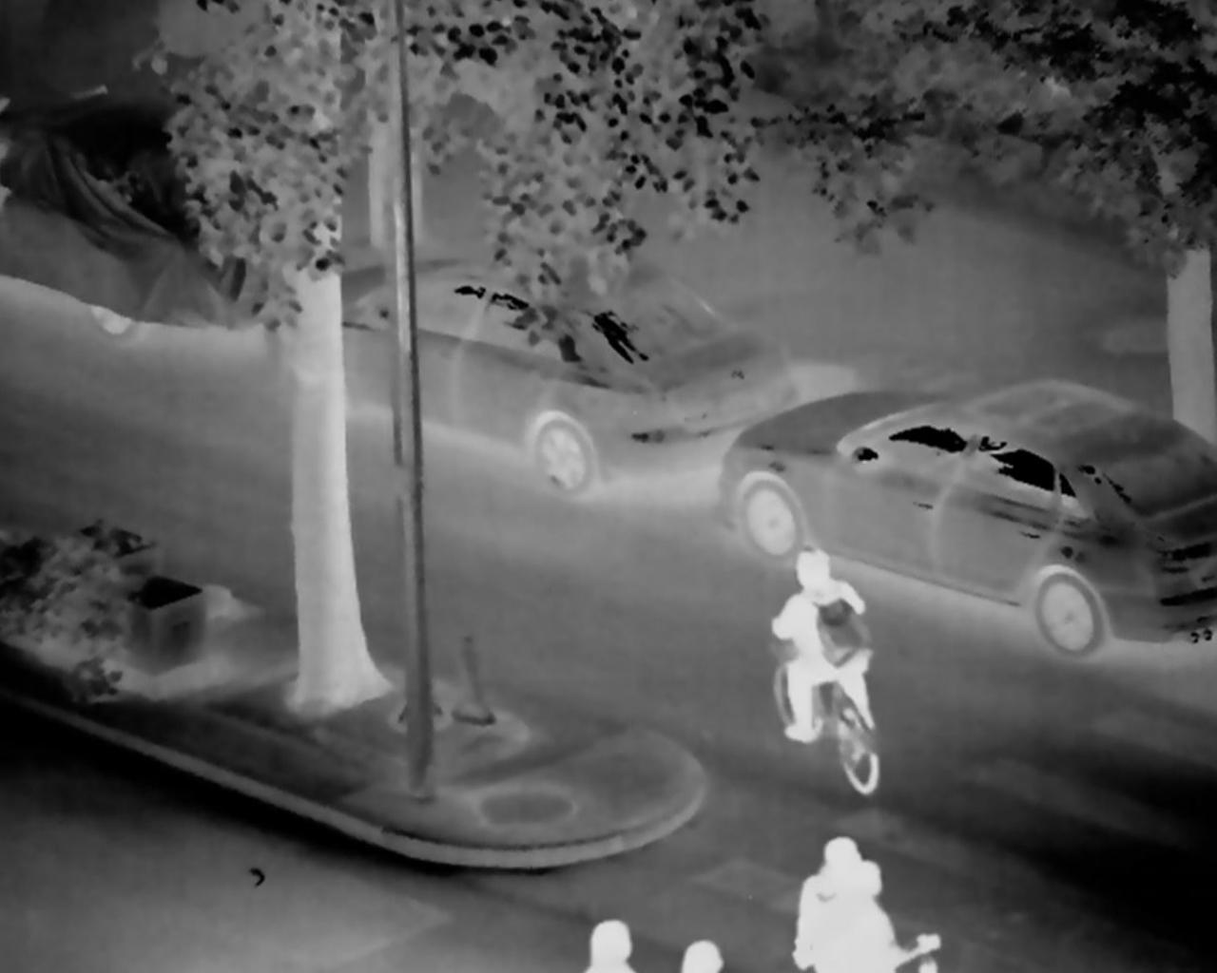person: (760, 546, 898, 792), (800, 835, 922, 973), (578, 912, 638, 973), (673, 935, 732, 972)
